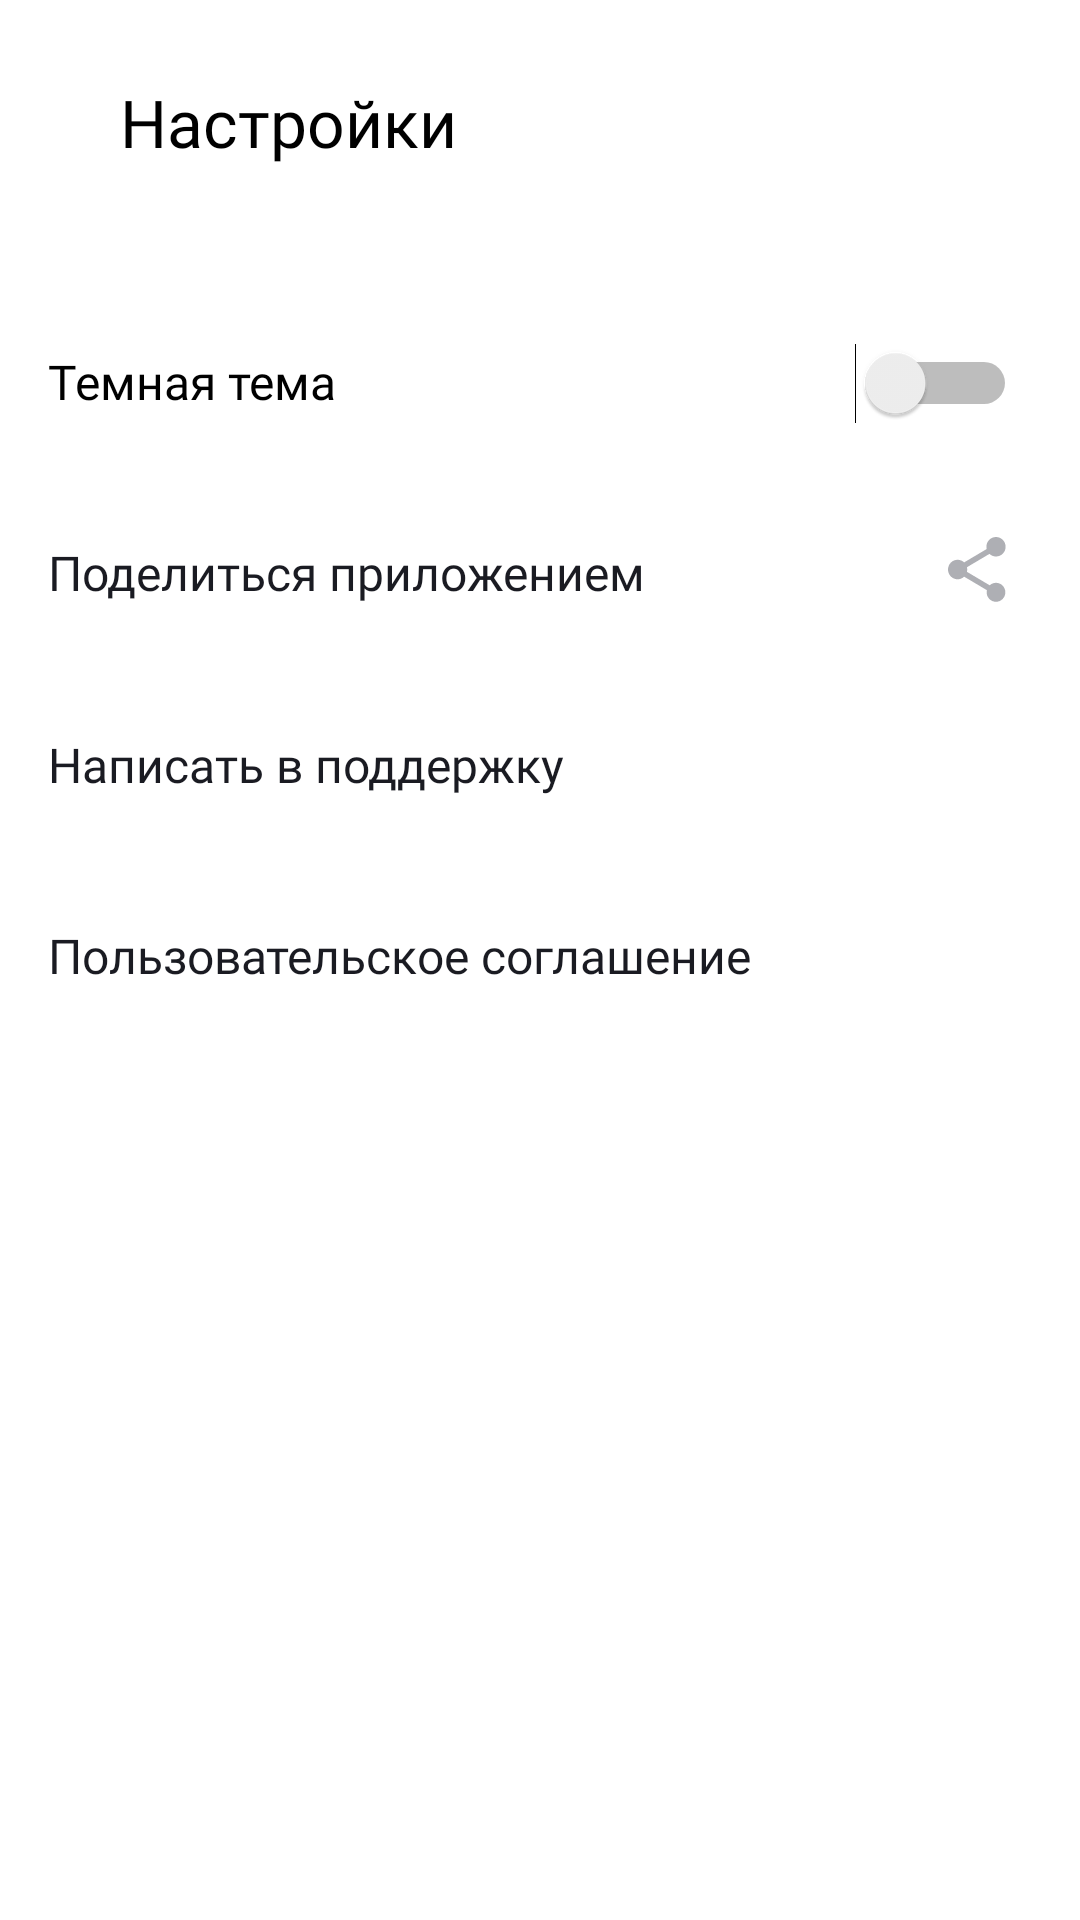

Named icons in this screenshot (1080*1920) and their centers, point (x, y):
share: point (977, 569)
